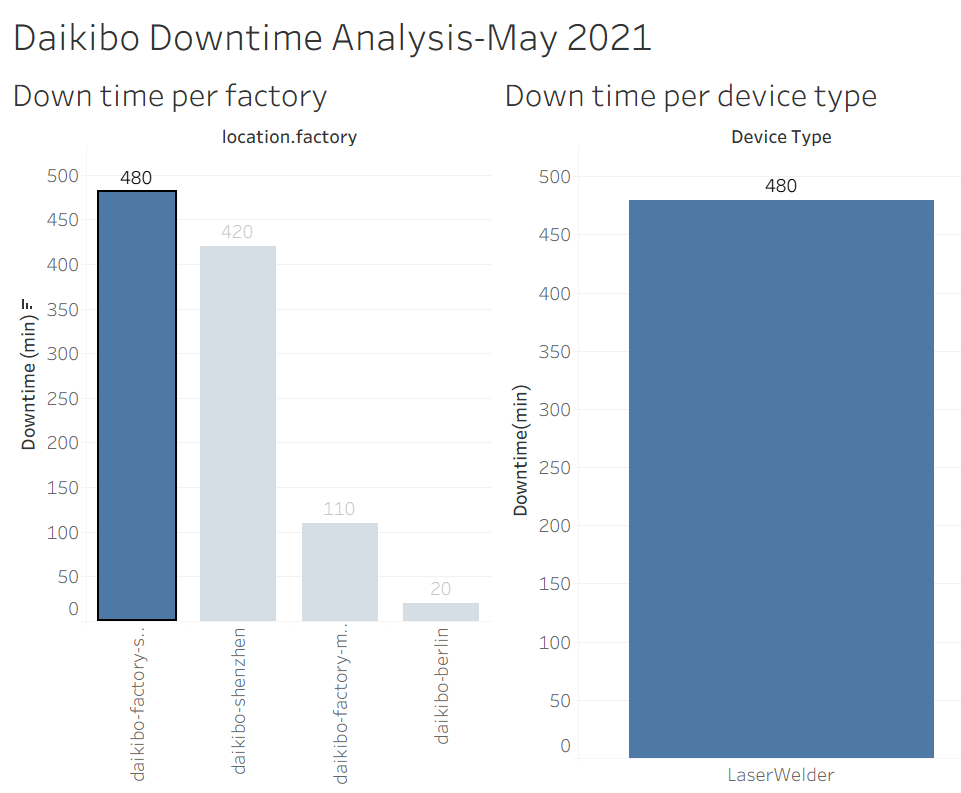

This screenshot's page, from the dashboard's own definition file:
{"tool":"tableau","page":{"name":"Daikibo Downtime Analysis-May 2021","canvas":[1000,1000],"units":"permille","ordinal":0},"visuals":[{"type":"title","box":[8,10,984,72.5]},{"type":"worksheet","title":"Down time per factory","mark":"Automatic","rows":["Calculation_0606666463428608"],"cols":["location.factory"],"box":[8,82.5,491.9,907.5]},{"type":"worksheet","title":"Down time per device type","mark":"Automatic","rows":["Calculation_0606666463428608"],"cols":["deviceType"],"box":[499.9,82.5,492.1,907.5]}]}

Visuals, with their boxes on the dashboard's canvas, which has no fixed pixel size, in thousandths of its width and height (x1, y1, x2, y2). These are canvas units, not pixel positions in the 961x793 screenshot, which may show the page scaled, cropped or inside an application window:
title: {"x1": 8, "y1": 10, "x2": 992, "y2": 82}
"Down time per factory" worksheet: {"x1": 8, "y1": 82, "x2": 500, "y2": 990}
"Down time per device type" worksheet: {"x1": 500, "y1": 82, "x2": 992, "y2": 990}
